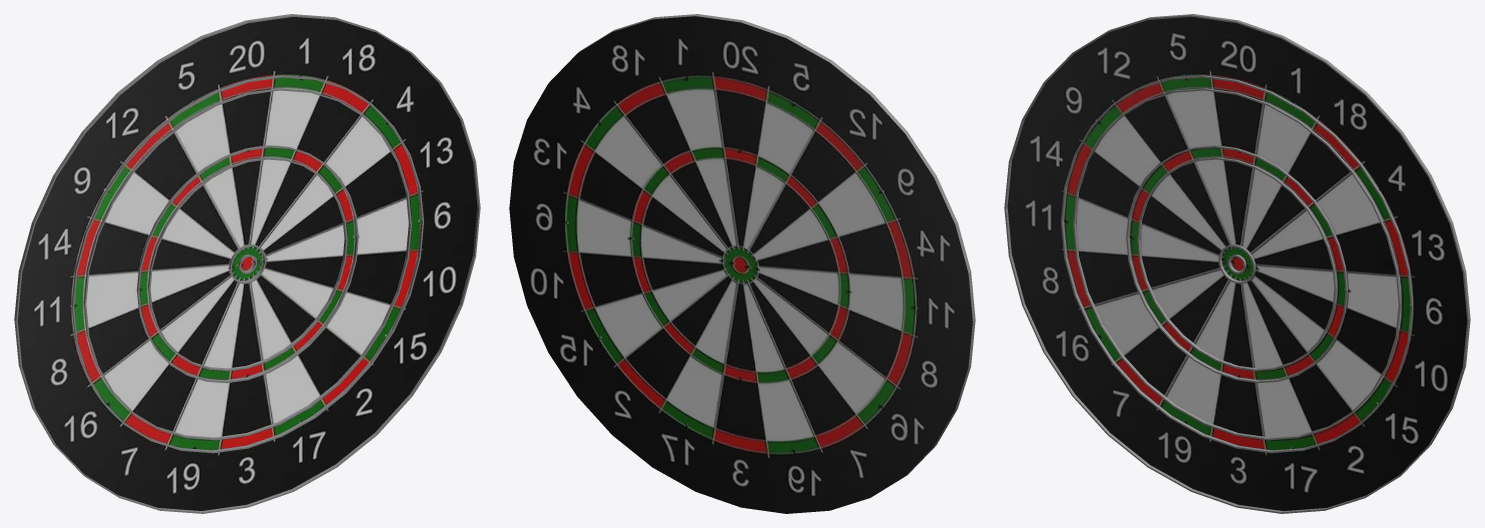
File: Bersaglio.fbx
3 views of the same model, side by side, from view 1: azimuth 30°, elevation 25°; view 2: azimuth 150°, elevation 25°; view 3: azimuth 330°, elevation 25° (orthographic).
Parts seen in each view (by area): view 1: Circle; view 2: Circle; view 3: Circle.
Boxes of the visible parts, <box> form: Circle: <box>14,14,480,513</box>; Circle: <box>509,14,975,513</box>; Circle: <box>1004,14,1470,513</box>.
Size of the model in its own units: 478 by 478 by 4.67.
Materials: 2 (1 with a texture image).
